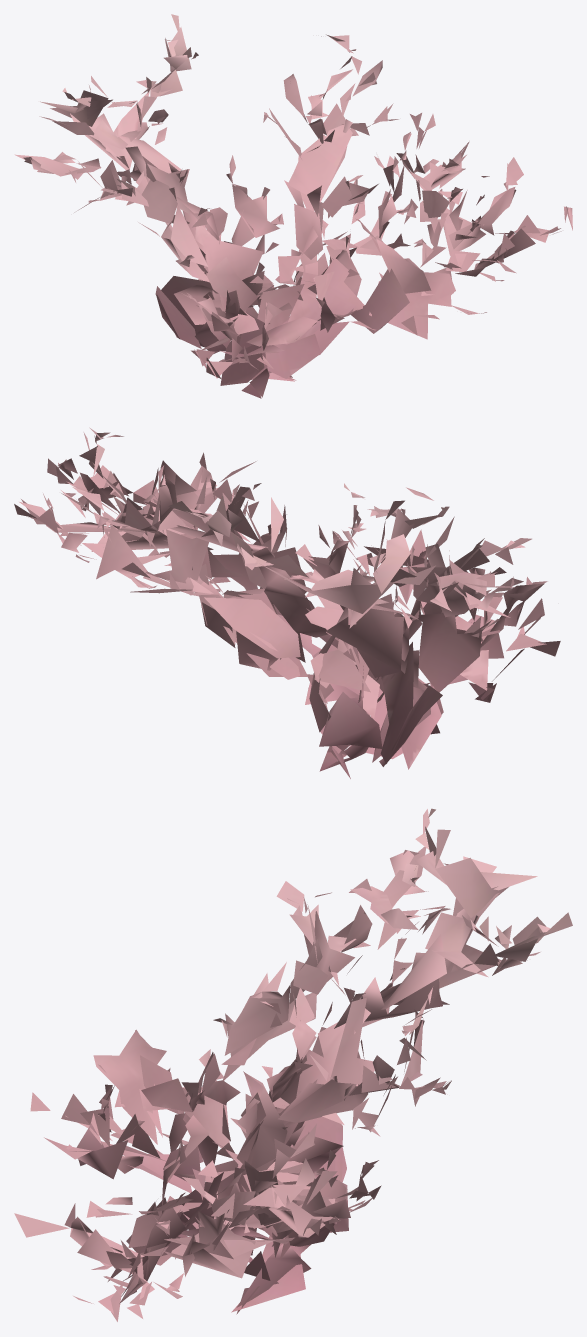
File: pocillopora_lo.glb
3 views of the same model, one above another, from view 1: azimuth 30°, elevation 25°; view 2: azimuth 150°, elevation 25°; view 3: azimuth 270°, elevation 25° (orthographic). The views are drawn at different scales.
Visible parts, largest first — view 1: pocillopora_far; view 2: pocillopora_far; view 3: pocillopora_far.
Part boxes in pixels (left/top/right/bottom): pocillopora_far: left=14, top=14, right=572, bottom=398; pocillopora_far: left=14, top=427, right=560, bottom=778; pocillopora_far: left=14, top=808, right=572, bottom=1321.
Size of the model in its own units: 0.2113 by 0.1253 by 0.1593.
1 material, 1 textured.
